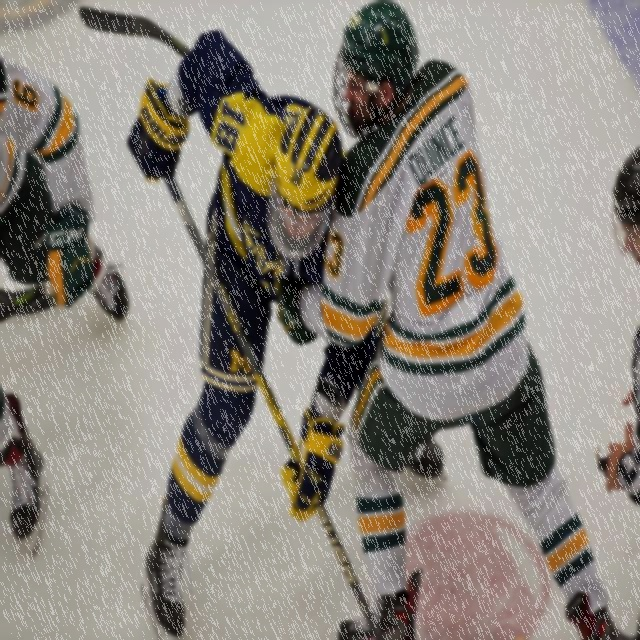pessoa: (278, 3, 633, 639), (120, 32, 452, 639), (0, 46, 133, 560), (594, 144, 640, 508)
